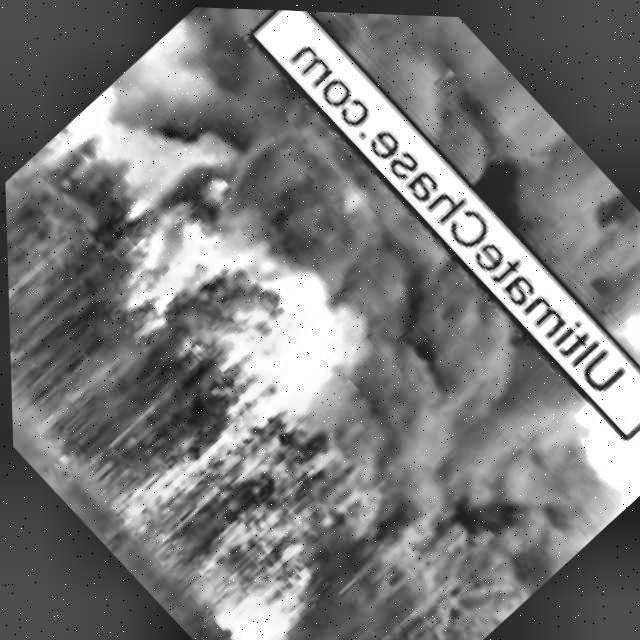Fire: (97, 338, 312, 547), (104, 180, 265, 337), (210, 531, 341, 640)
Smoke: (128, 4, 640, 548), (260, 8, 640, 331), (294, 316, 563, 600)
